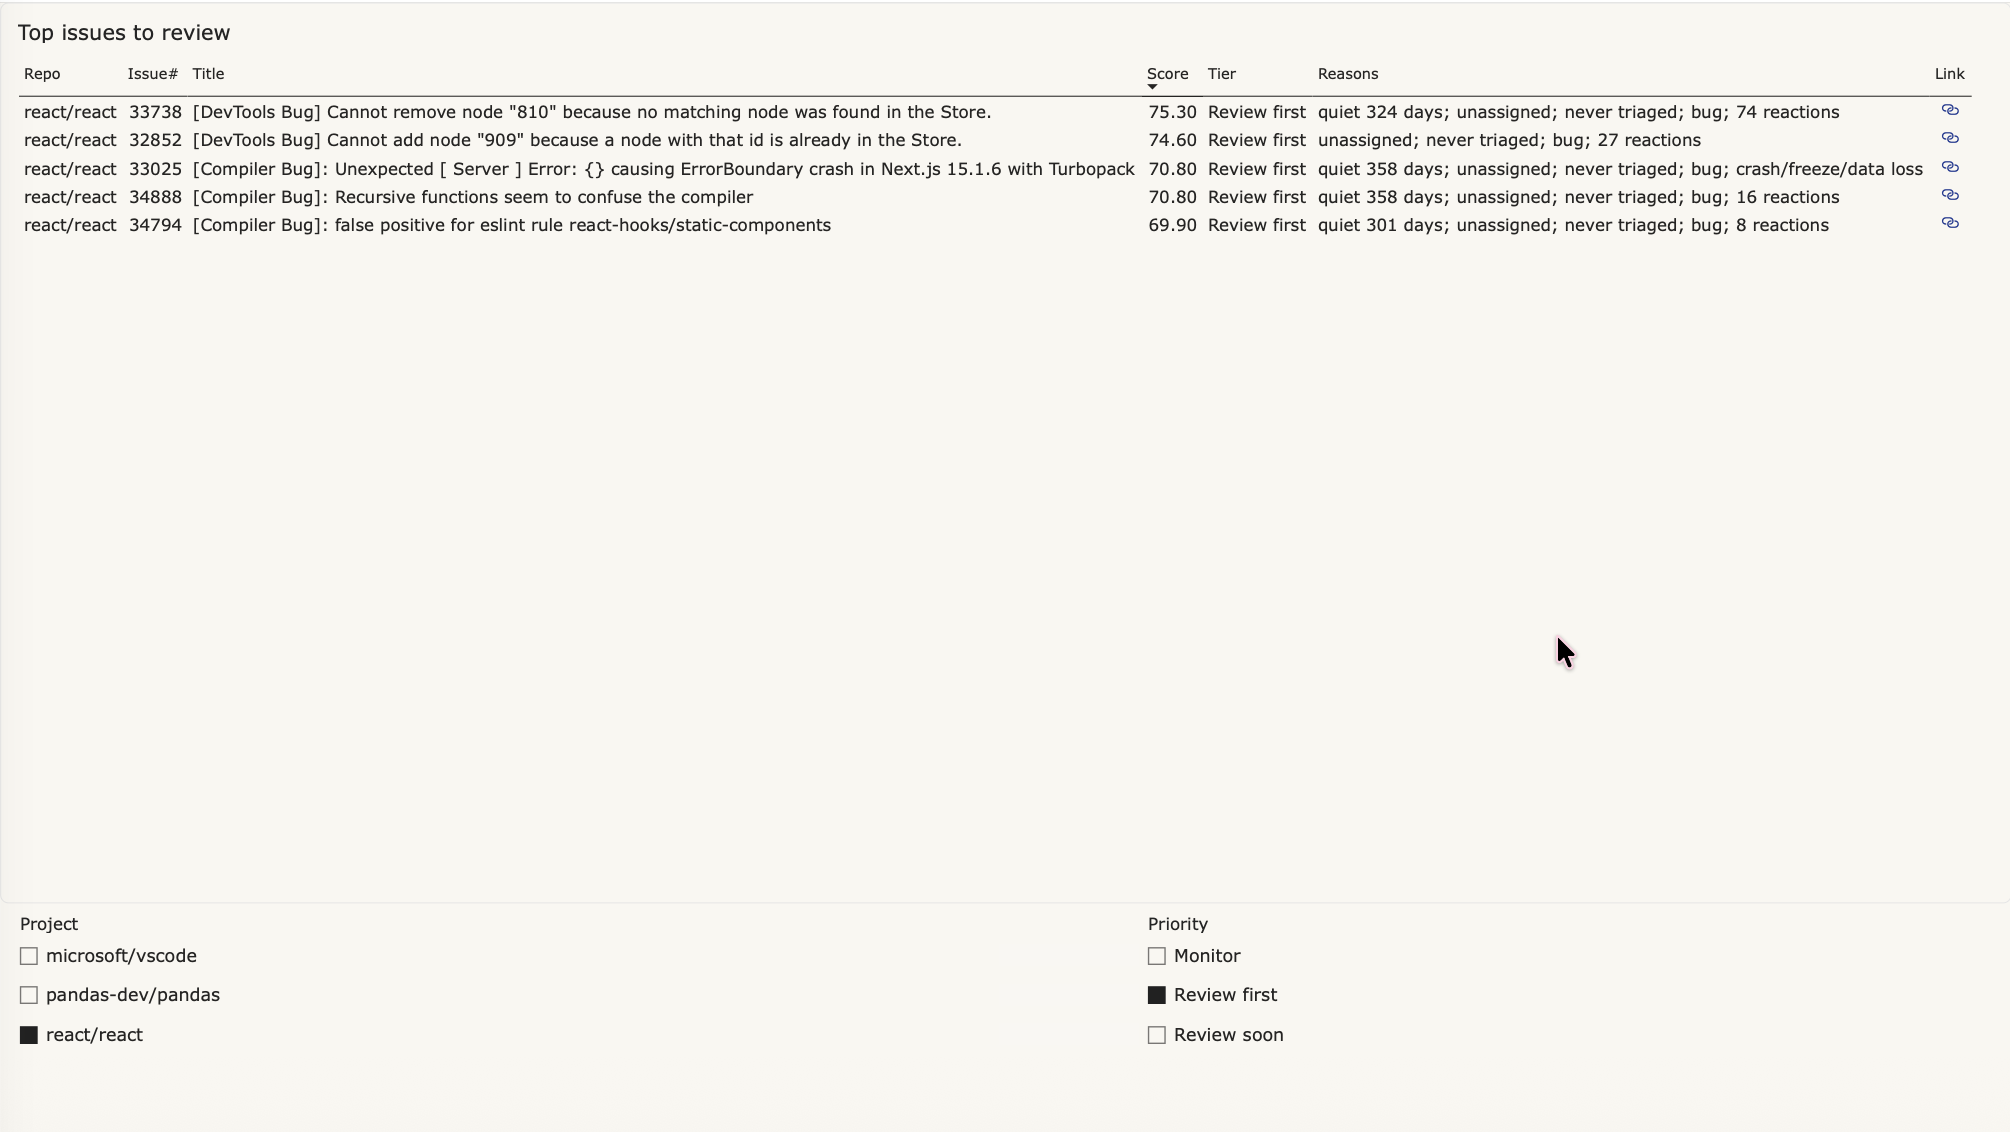

What the dashboard file says about the page in this screenshot:
{"tool":"powerbi","page":{"name":"Priority Shortlist","canvas":[1920,1080],"ordinal":1},"visuals":[{"type":"tableEx","title":"Top issues to review","fields":{"Values":["attention_score_v2.repo","attention_score_v2.number","attention_score_v2.title","Sum(attention_score_v2.attention_score)","attention_score_v2.tier","attention_score_v2.reasons","attention_score_v2.html_url"]},"box":[0,0,1920,860.3],"z":0},{"type":"slicer","fields":{"Values":["attention_score_v2.repo"]},"box":[11.4,868.8,1076.8,210.8],"z":1000},{"type":"slicer","fields":{"Values":["attention_score_v2.tier"]},"box":[1088.2,868.8,831.8,210.8],"z":2000}]}

Visuals, with their boxes in screenshot pixels (x1, y1, x2, y2), scaled from the page's 1920x1080 canvas onto the 2010x1132 screenshot:
"Top issues to review" tableEx: Rect(0, 0, 2009, 902)
slicer - attention_score_v2.repo: Rect(12, 911, 1139, 1131)
slicer - attention_score_v2.tier: Rect(1139, 911, 2009, 1131)
